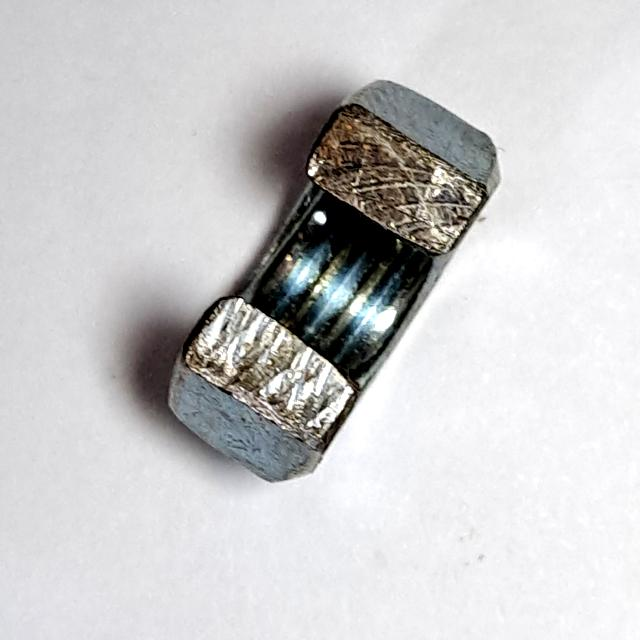Side-Fracture: (147, 68, 517, 495)
